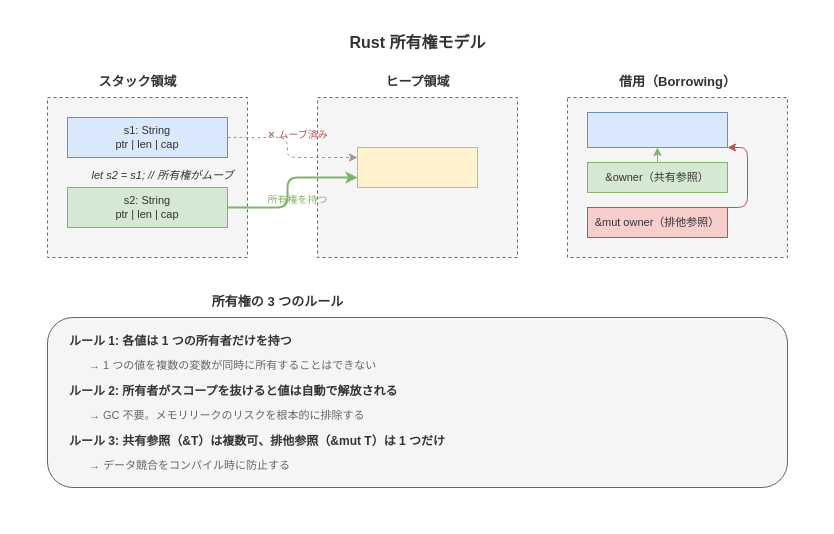
The diagram is 834 pixels wide and 534 high, and some of its shapes have lost their labels. Each missing label, with the centre of its shape:
"hello": pixel 417 167
owner: String （所有者）: pixel 657 130
